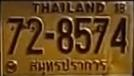2: (25, 17, 41, 54)
4: (110, 17, 125, 53)
5: (74, 17, 90, 53)
7: (6, 17, 24, 54), (93, 17, 108, 53)
8: (56, 17, 72, 53)
SPK: (28, 57, 108, 76)
